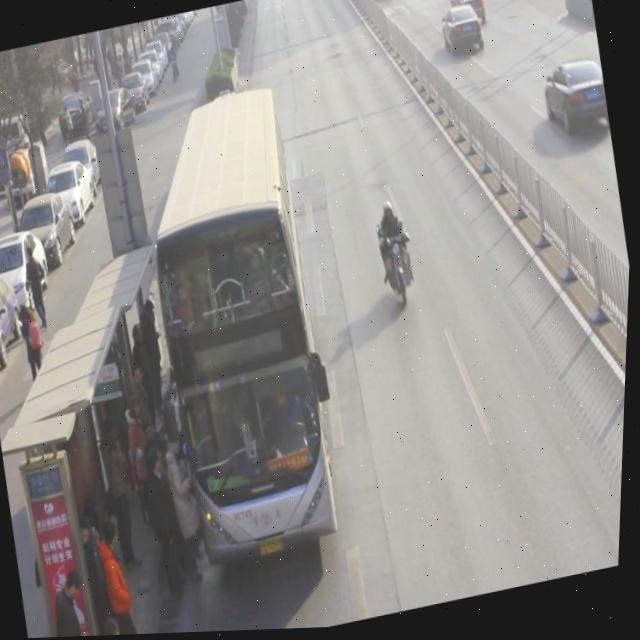car: (541, 62, 607, 147), (438, 3, 489, 65), (447, 0, 490, 35), (363, 0, 391, 5)
van: (122, 88, 356, 567)
